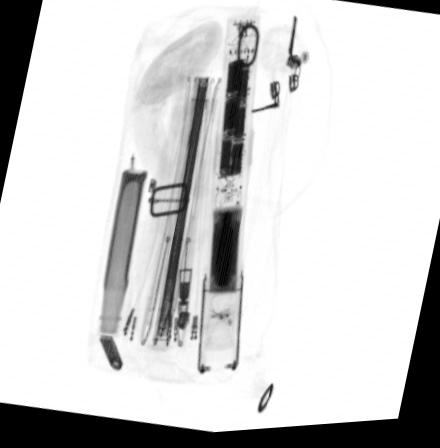Baton: (194, 12, 262, 376)
